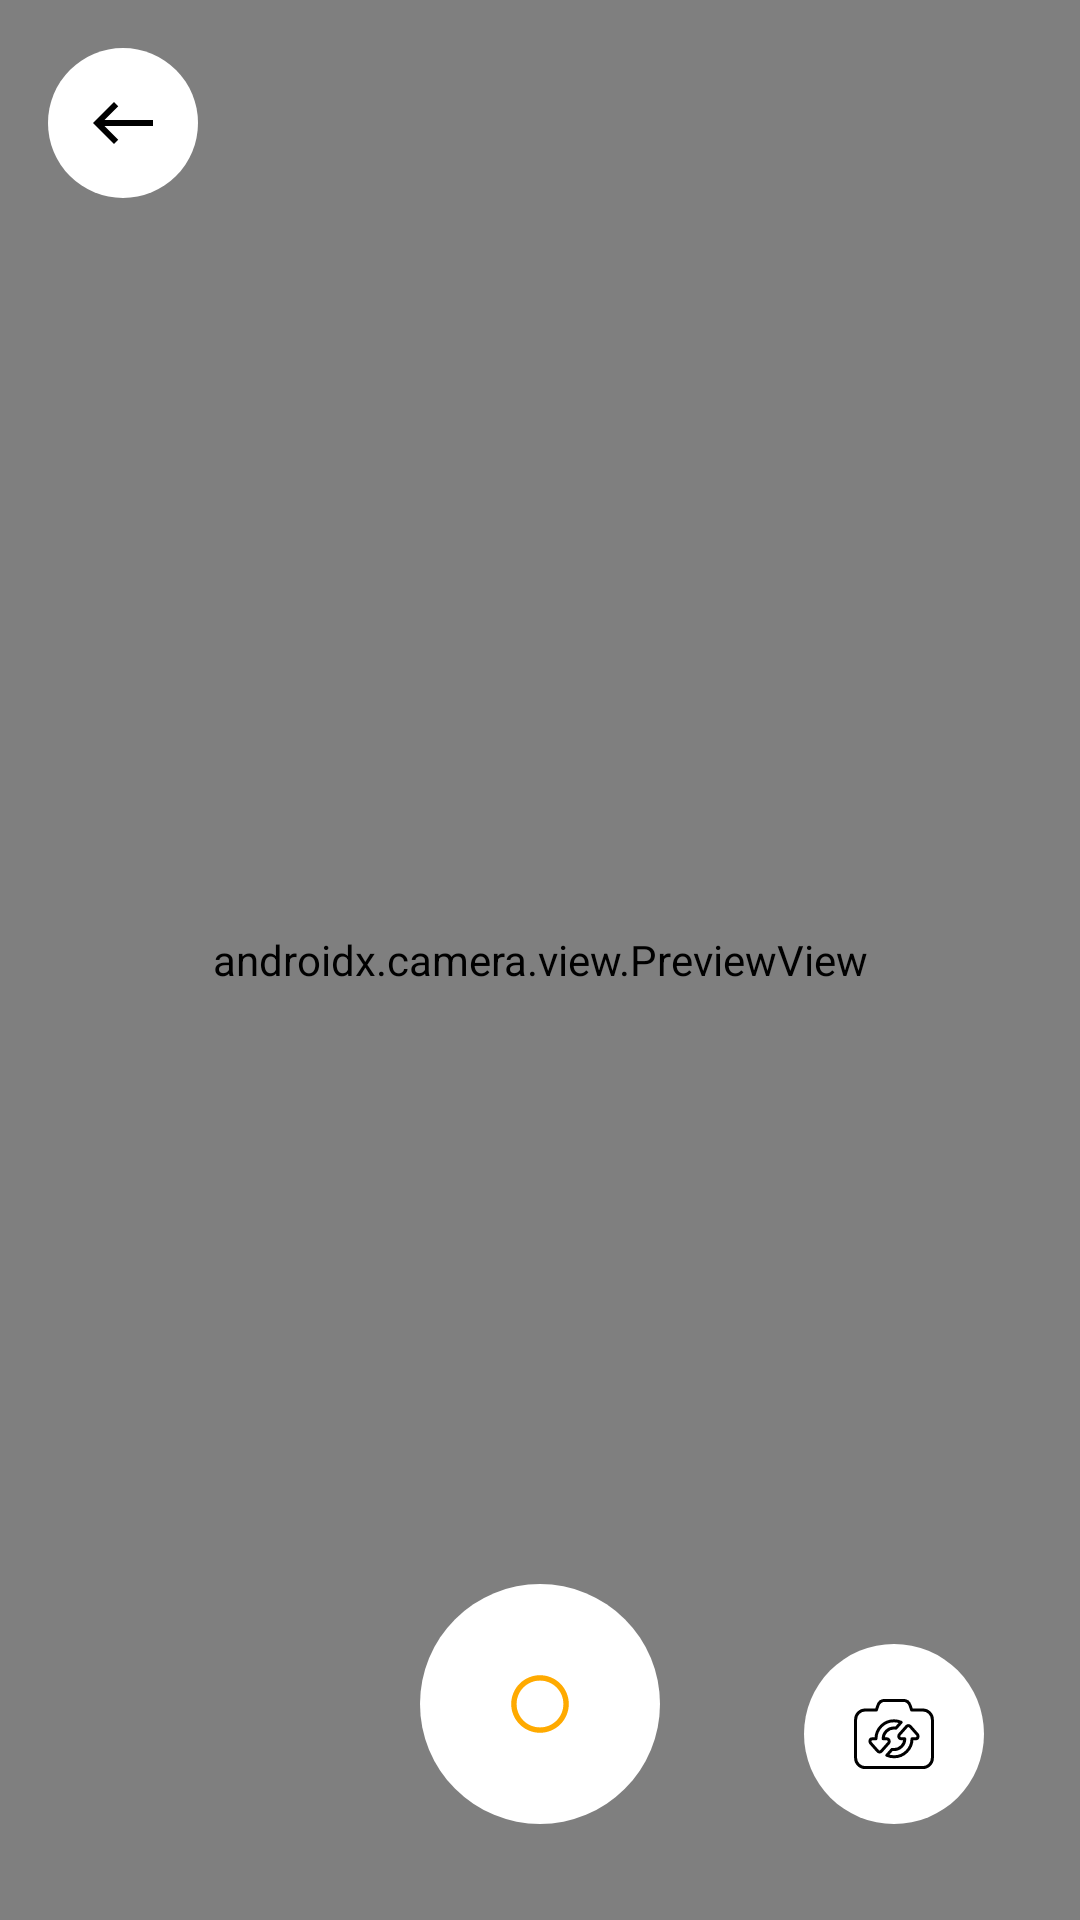

Named icons in this screenshot (1080*1920) and their centers, [x,y]:
back arrow: [123,123]
Capture: [540,1704]
Switch camera: [894,1734]
